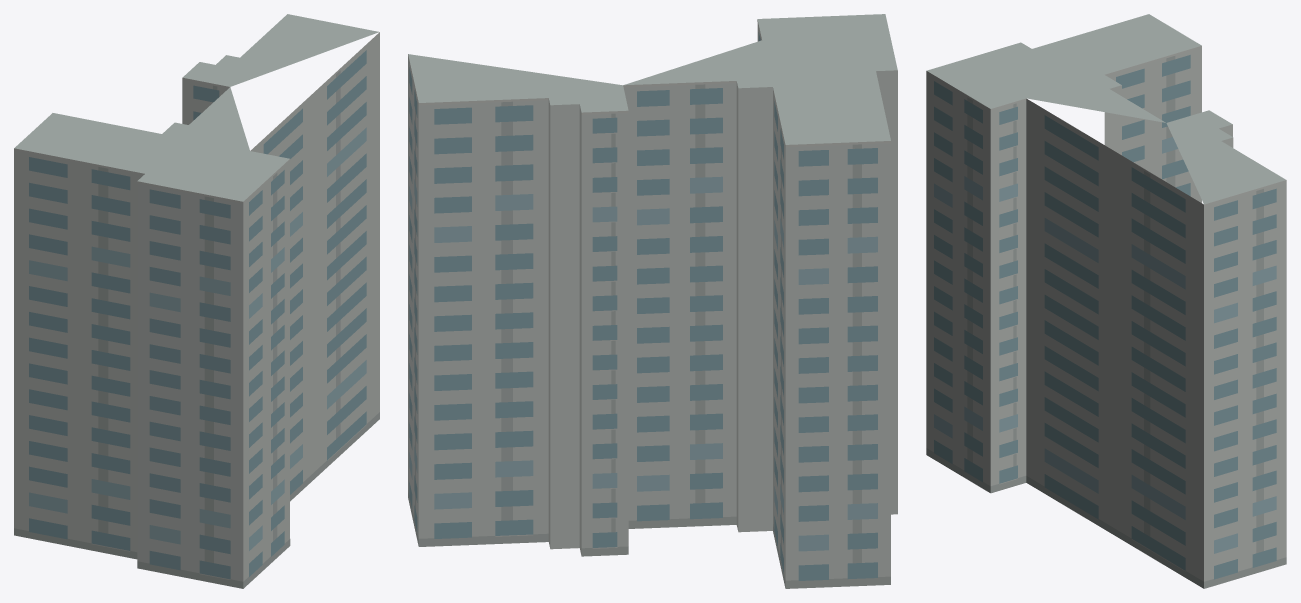
The model's file is residential-75bdaf79-dfe7-473f-9d2e-be334aaef376.glb.
3 views of the same model, side by side, from view 1: azimuth 30°, elevation 25°; view 2: azimuth 150°, elevation 25°; view 3: azimuth 270°, elevation 25° (orthographic). The views are drawn at different scales.
Parts seen in each view (by area): view 1: residential-75bdaf79-dfe7-473f-9d2e-be334aaef376.tmp; view 2: residential-75bdaf79-dfe7-473f-9d2e-be334aaef376.tmp; view 3: residential-75bdaf79-dfe7-473f-9d2e-be334aaef376.tmp.
Boxes of the visible parts, <box> form: residential-75bdaf79-dfe7-473f-9d2e-be334aaef376.tmp: <box>14,14,379,588</box>; residential-75bdaf79-dfe7-473f-9d2e-be334aaef376.tmp: <box>408,14,897,588</box>; residential-75bdaf79-dfe7-473f-9d2e-be334aaef376.tmp: <box>926,14,1286,588</box>.
Size of the model in its own units: 48.93 by 46 by 39.06.
